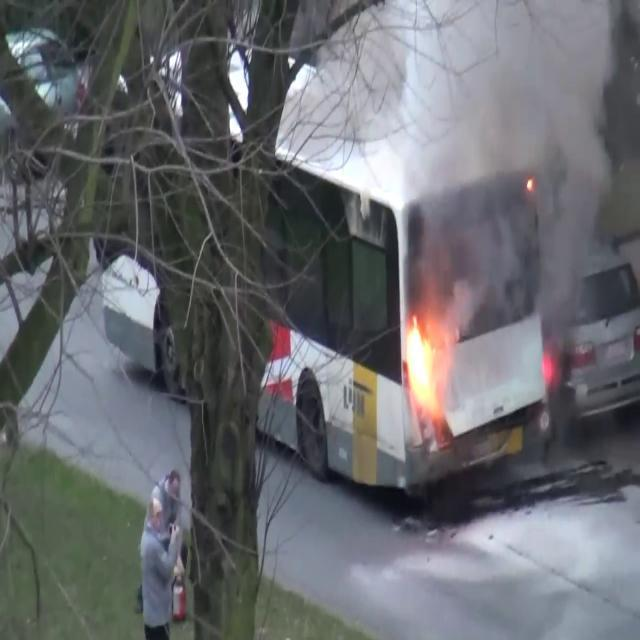Fire: (401, 302, 447, 418)
Smoke: (399, 0, 640, 342)
